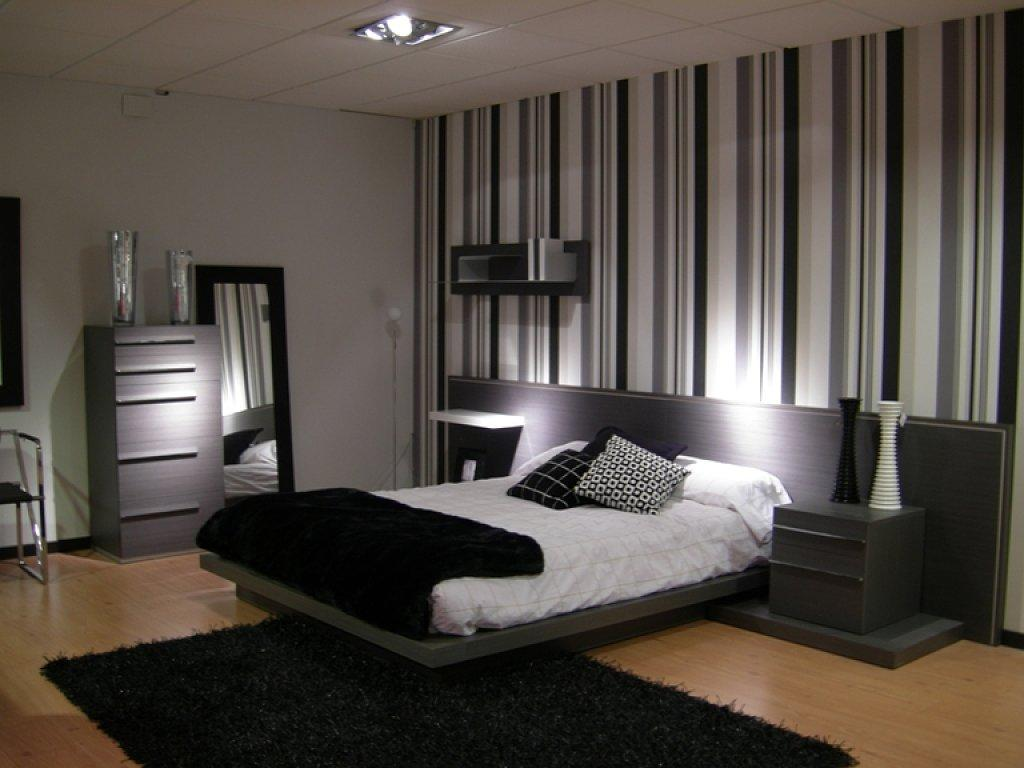bed: (270, 378, 722, 635)
